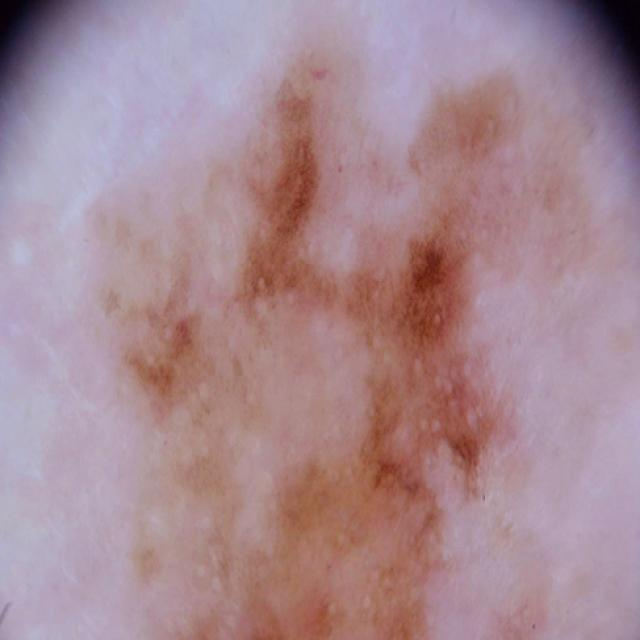Keratosis: (68, 34, 607, 640)
